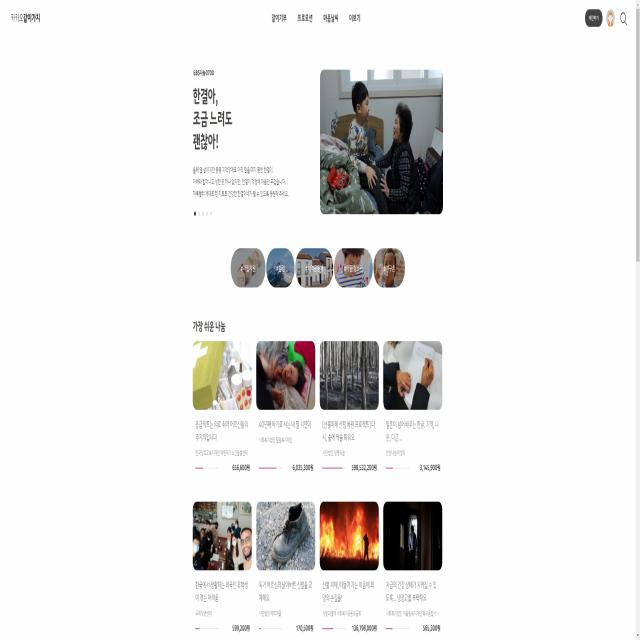menu-bar: (582, 7, 630, 33)
search: (618, 10, 628, 29)
tab-bar: (268, 6, 364, 34)
